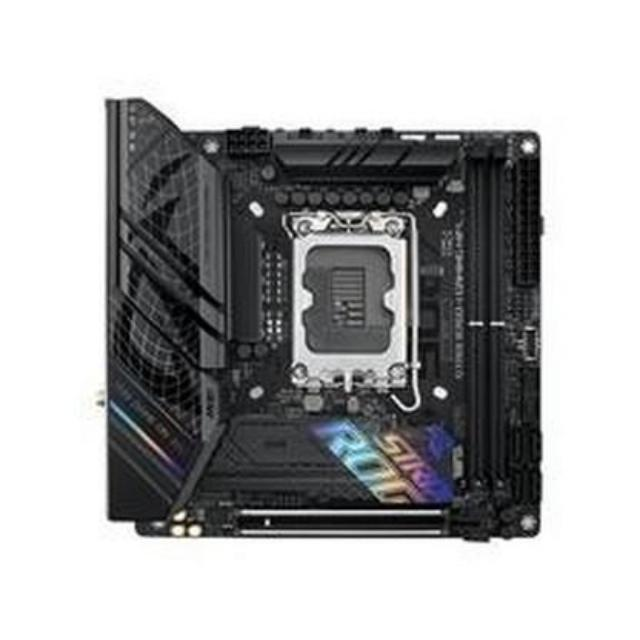Mainboard: (92, 82, 552, 574)
